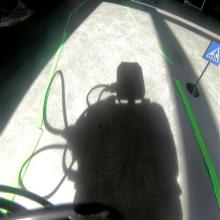crosswalk: (202, 40, 220, 66)
